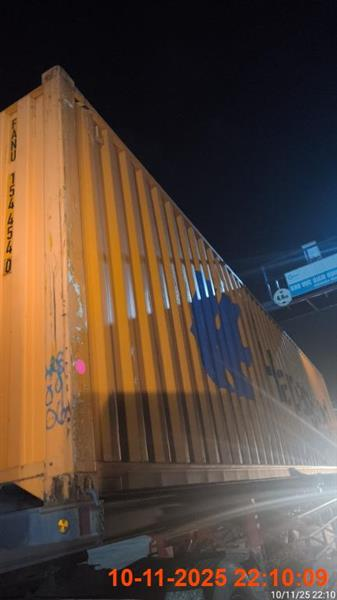hole: (0, 65, 336, 593), (0, 66, 336, 592)
